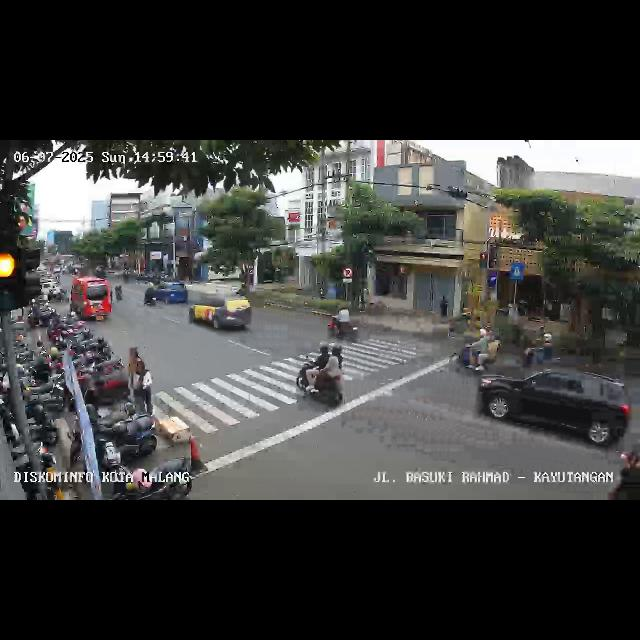car: (477, 366, 631, 448), (190, 294, 252, 334), (70, 278, 112, 322), (144, 280, 188, 308), (328, 307, 360, 339)
motorcycle: (294, 341, 348, 407), (608, 426, 640, 498), (456, 324, 500, 372), (520, 324, 558, 368), (144, 282, 158, 310), (112, 279, 124, 301)
person: (132, 360, 156, 420), (129, 346, 145, 404)
